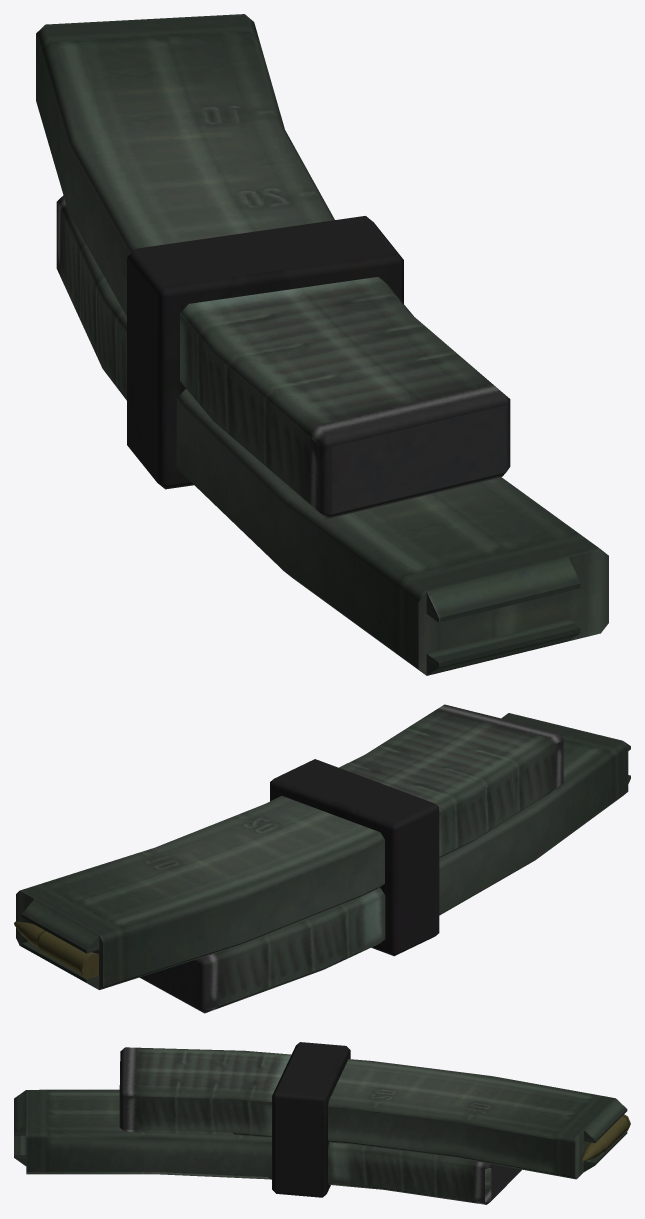
File: t6_attach_fastmag_chicom_view_LOD0.obj
The picture shows the model from 3 angles, top to bottom: view 1: azimuth 30°, elevation 25°; view 2: azimuth 150°, elevation 25°; view 3: azimuth 270°, elevation 25°; orthographic projection. The views are drawn at different scales.
Visible parts, largest first — view 1: mtl_t6_wpn_smg_chicom_camo1; view 2: mtl_t6_wpn_smg_chicom_camo1; view 3: mtl_t6_wpn_smg_chicom_camo1.
Part boxes in pixels (<box>): mtl_t6_wpn_smg_chicom_camo1: <box>36,14,608,675</box>; mtl_t6_wpn_smg_chicom_camo1: <box>14,704,630,1013</box>; mtl_t6_wpn_smg_chicom_camo1: <box>14,1042,630,1204</box>.
Bounding box in the file's own units: 7.74 × 3.9 × 21.49.
